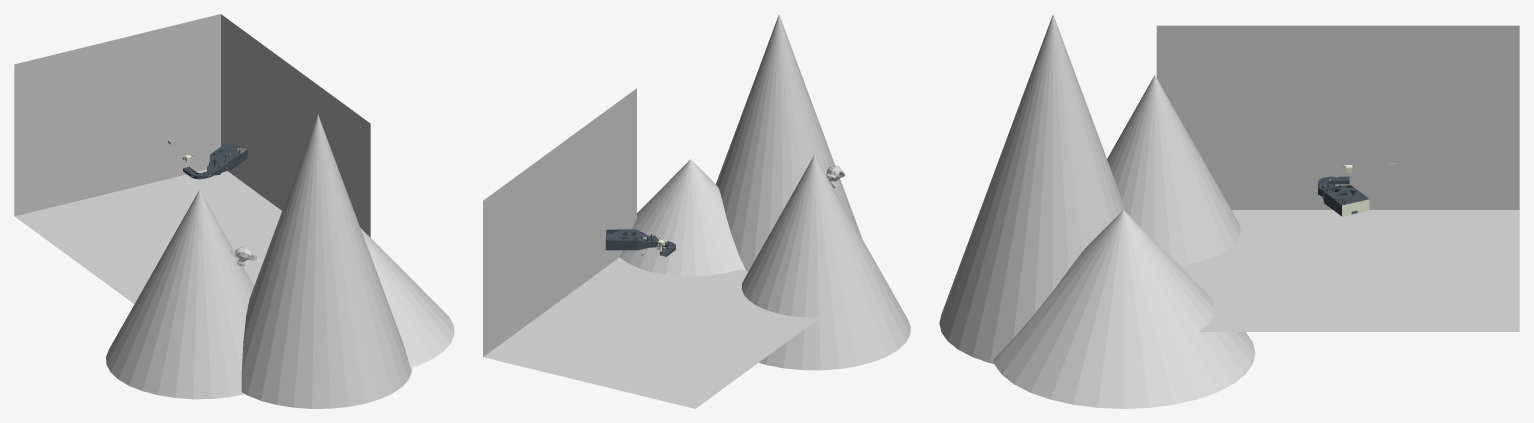
3 renders of one model, left to right at view 1: azimuth 30°, elevation 25°; view 2: azimuth 150°, elevation 25°; view 3: azimuth 270°, elevation 25°, orthographic. The views are drawn at different scales.
Visible parts, largest first — view 1: Cube, Cone, Cone.002, Cone.001, Cube.007, Hallway; view 2: Cube, Cone.002, Cone, Cone.001, Hallway, Cube.007; view 3: Cube, Cone.001, Cone, Cone.002, Cube.007.
Boxes of the visible parts, <box> form: Cube: <box>14,14,370,303</box>; Cone: <box>241,114,411,408</box>; Cone.002: <box>106,190,253,399</box>; Cone.001: <box>360,228,454,367</box>; Cube.007: <box>183,143,241,176</box>; Hallway: <box>183,149,247,179</box>; Cube: <box>483,88,819,408</box>; Cone.002: <box>741,155,910,370</box>; Cone: <box>716,14,862,271</box>; Cone.001: <box>620,159,745,276</box>; Hallway: <box>605,229,675,256</box>; Cube.007: <box>605,229,675,253</box>; Cube: <box>1156,25,1519,331</box>; Cone.001: <box>993,210,1255,408</box>; Cone: <box>939,14,1126,363</box>; Cone.002: <box>1107,75,1240,265</box>; Cube.007: <box>1318,176,1368,203</box>.
Size of the model in its own units: 583 by 464 by 783.
19 materials, 14 textured.
